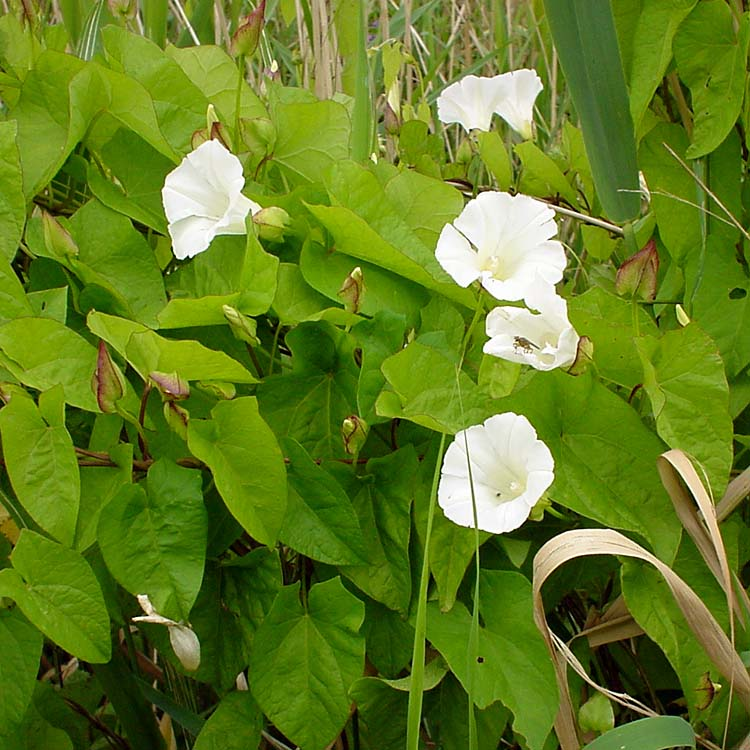haagwinde: (1, 356, 293, 670), (433, 187, 597, 384), (427, 401, 566, 553), (425, 36, 560, 187), (152, 143, 285, 268)
